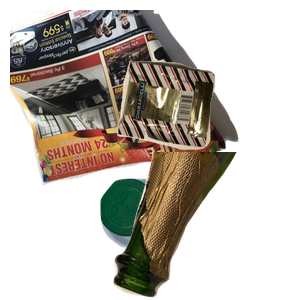glass: (111, 152, 300, 300)
paper: (10, 10, 241, 188)
plastic: (98, 176, 266, 300)
trash: (115, 58, 300, 200)
